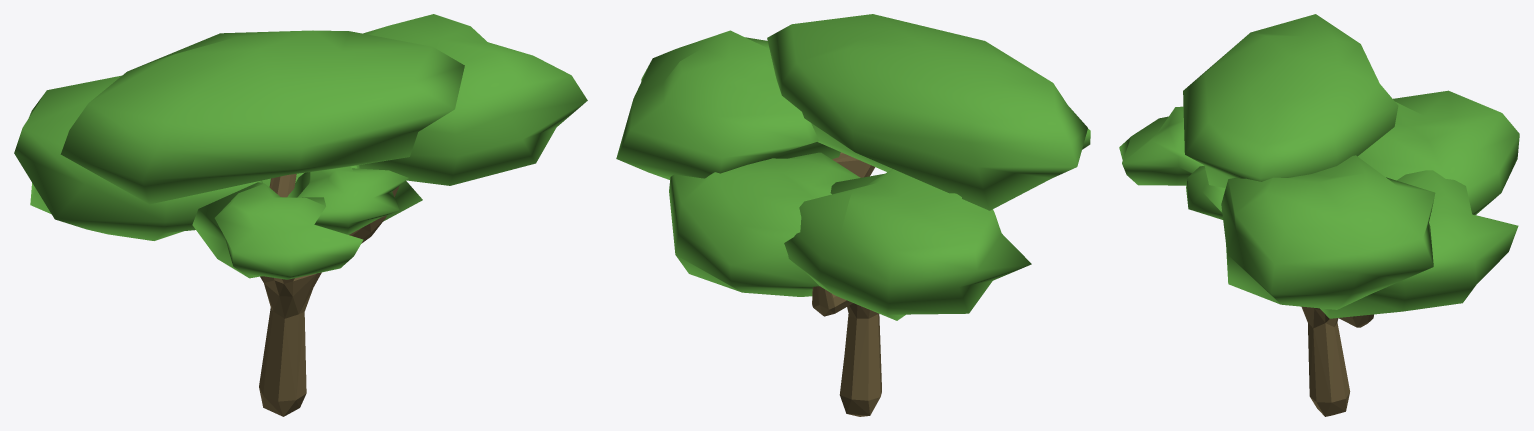
Rendered from tree-stylized.fbx.
3 views of the same model, side by side, from view 1: azimuth 30°, elevation 25°; view 2: azimuth 150°, elevation 25°; view 3: azimuth 270°, elevation 25° (orthographic). The views are drawn at different scales.
Visible parts, largest first — view 1: Tree.001; view 2: Tree.001; view 3: Tree.001.
Boxes of the visible parts, <box> form: Tree.001: <box>14,14,587,416</box>; Tree.001: <box>616,14,1090,416</box>; Tree.001: <box>1119,14,1519,416</box>.
Bounding box in the file's own units: 1010 × 760 × 815.
